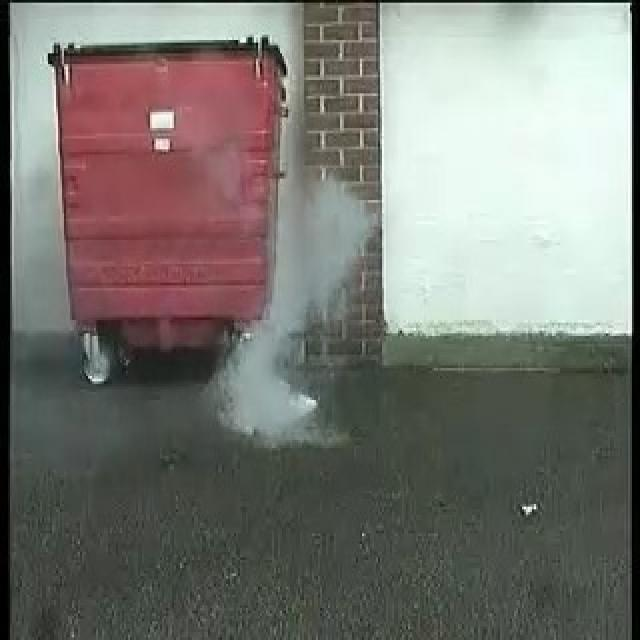smoke: (213, 188, 371, 430)
